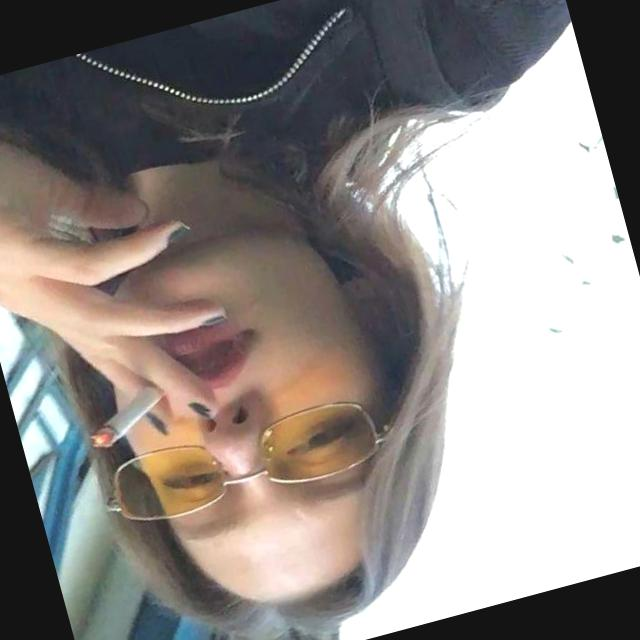smoke: (54, 334, 210, 476)
